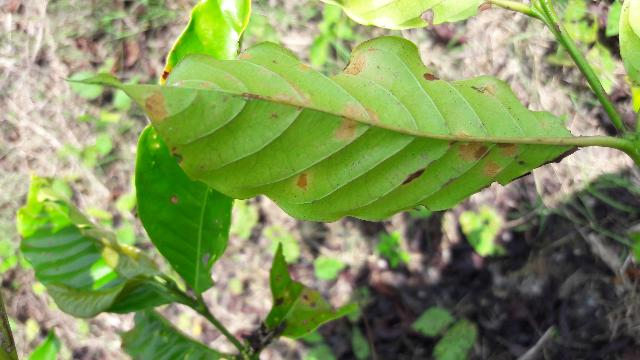rust_level_3: (69, 35, 580, 223)
